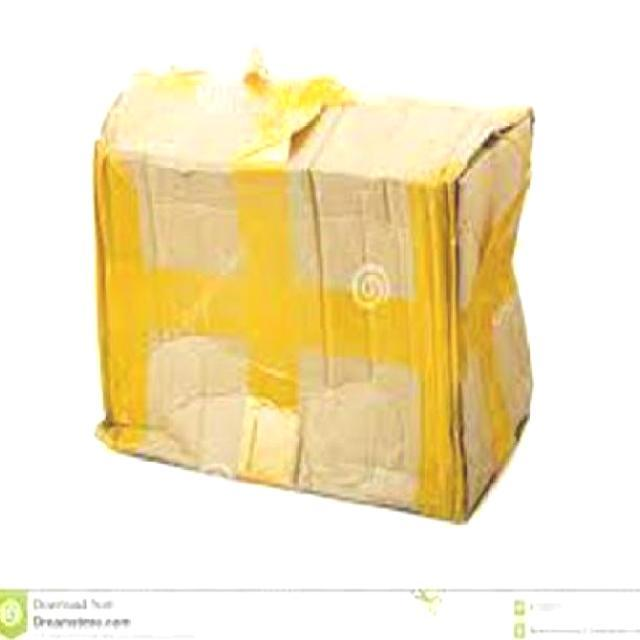crushed: (92, 49, 535, 523)
